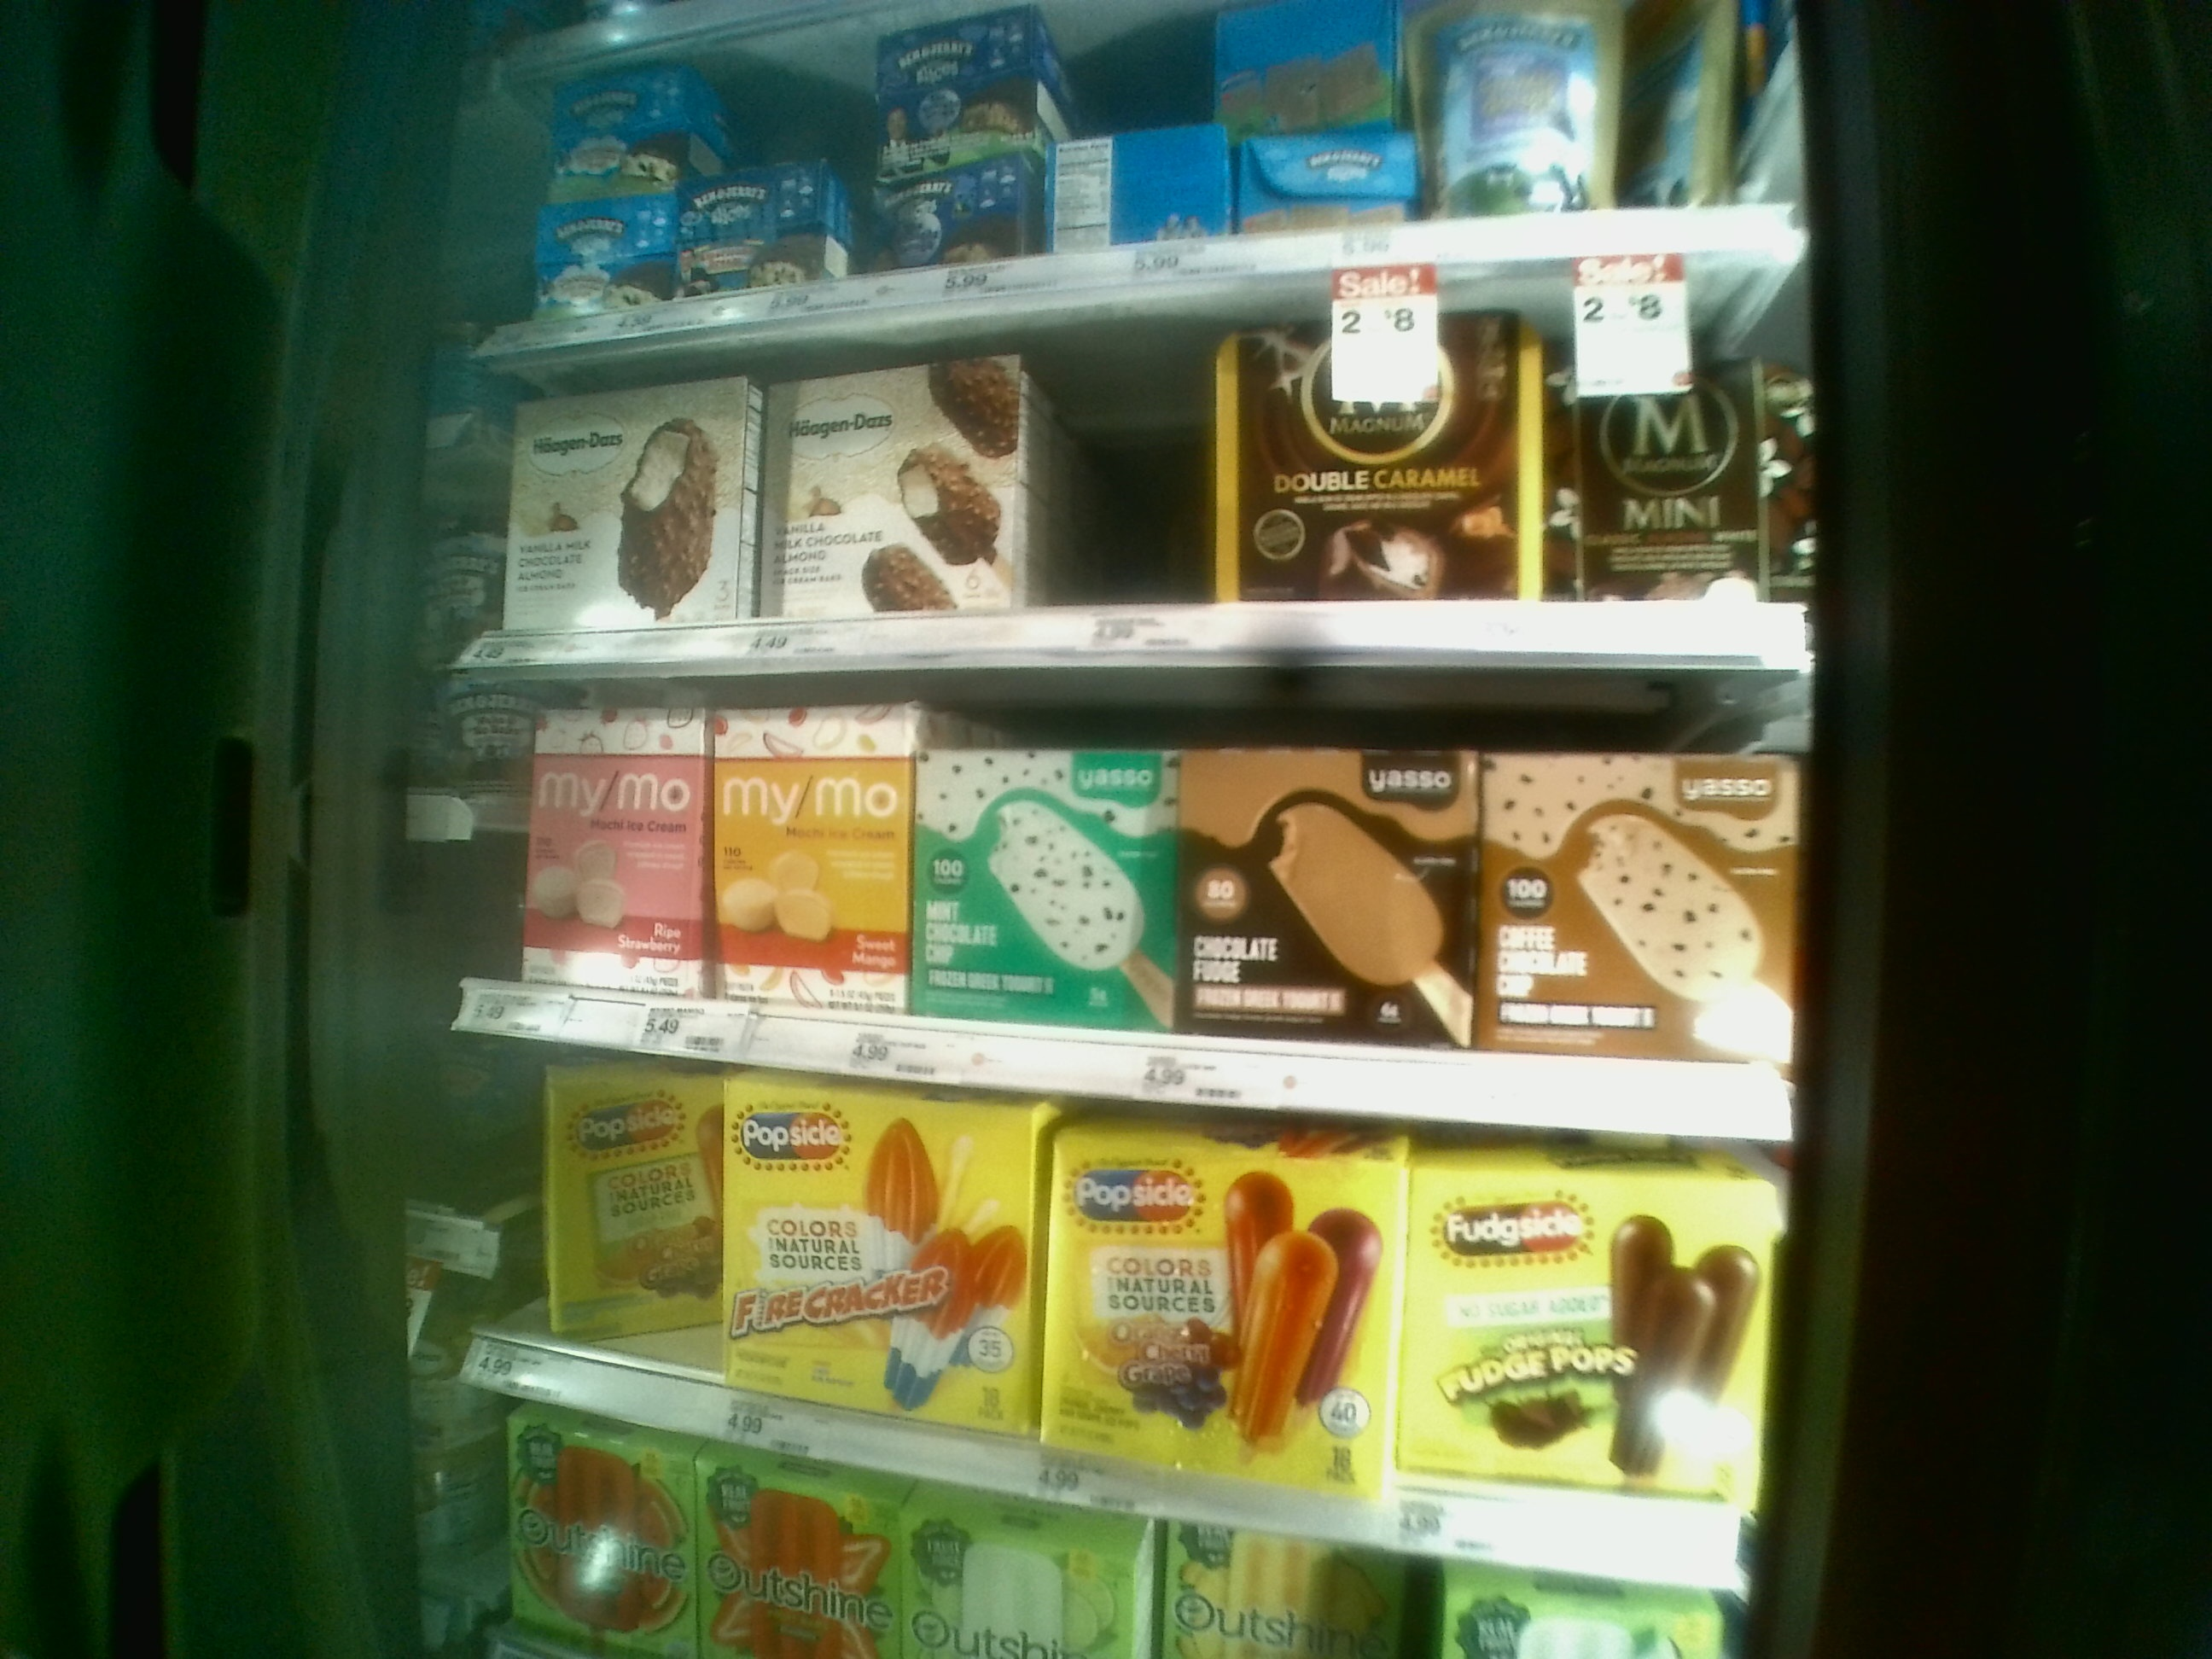shelf: (449, 1030, 1801, 1593), (435, 673, 1801, 1143), (465, 256, 1806, 678)
